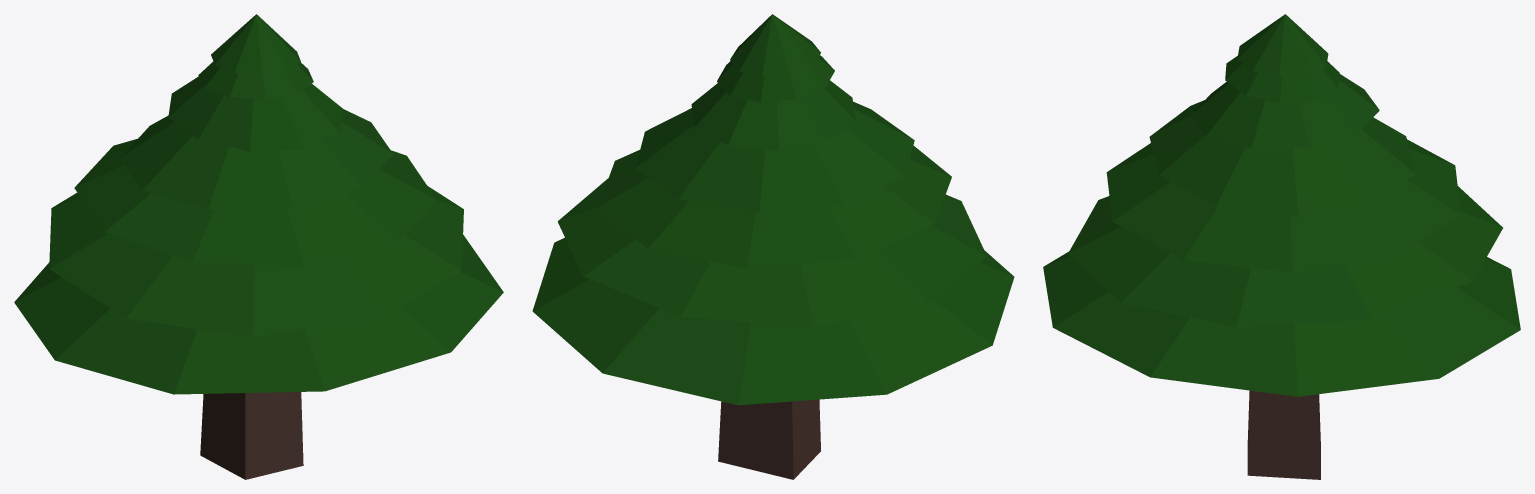
Rendered from PineTree.fbx.
The picture shows the model from 3 angles, left to right: view 1: azimuth 30°, elevation 25°; view 2: azimuth 150°, elevation 25°; view 3: azimuth 270°, elevation 25°; orthographic projection.
Parts seen in each view (by area): view 1: Tree; view 2: Tree; view 3: Tree.
Part boxes in pixels (x1,y1,x2,y2): Tree: [14, 14, 503, 479]; Tree: [532, 14, 1014, 479]; Tree: [1043, 14, 1520, 479].
Size of the model in its own units: 605 by 606 by 586.
